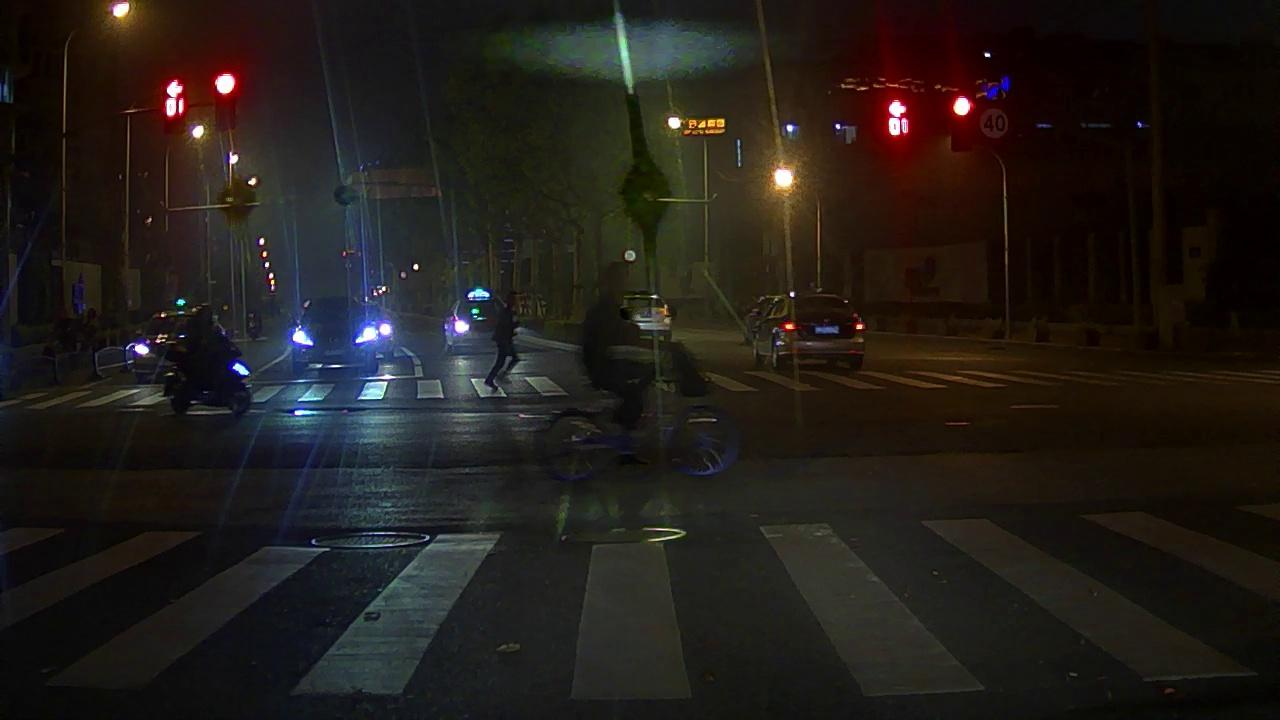traffic_light: (950, 98, 972, 153), (163, 73, 182, 132), (217, 73, 237, 128), (888, 99, 908, 134)
